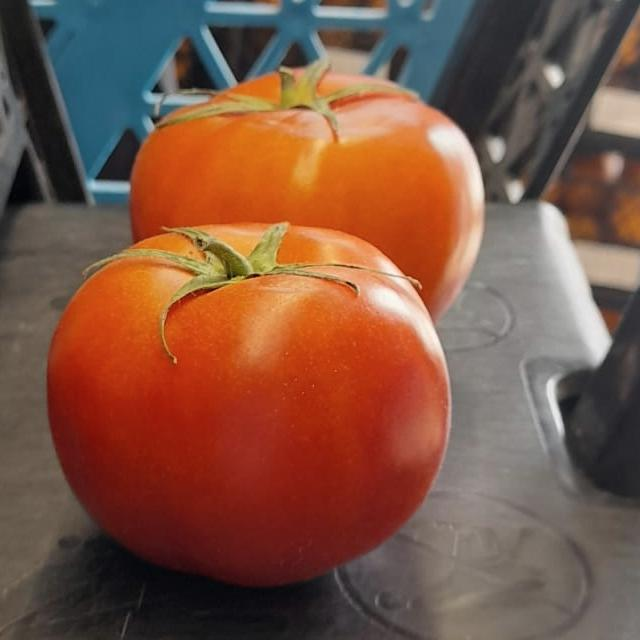tomato: (23, 210, 470, 597), (120, 50, 507, 317)
